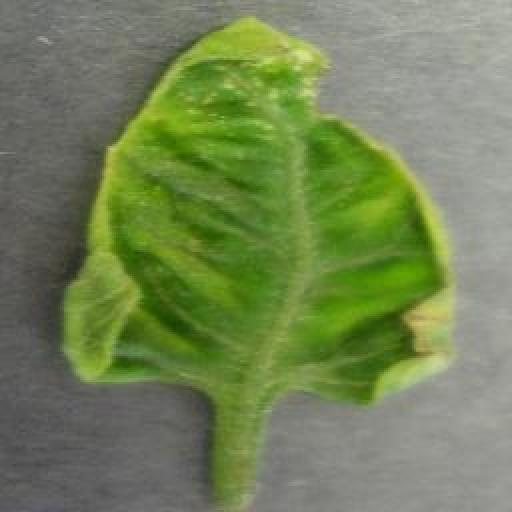disease_tomato: (62, 14, 456, 406)
